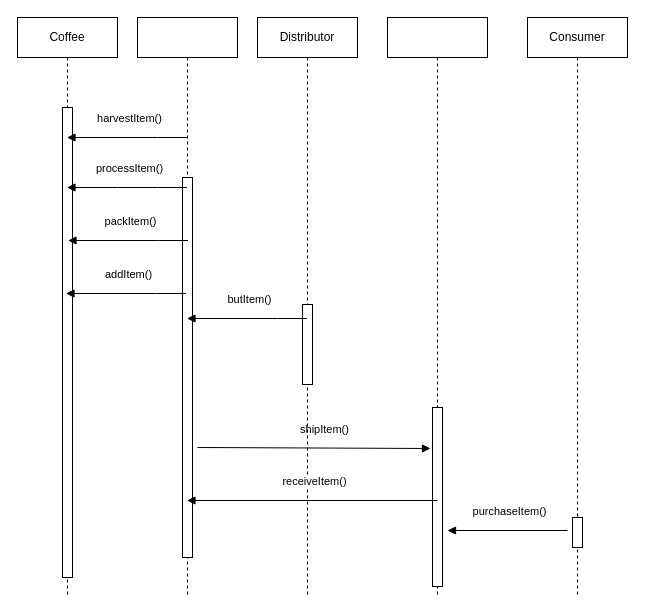
This 645x615 diagram has some shape labels left out. Here are the shapes that lost their labels. From the top down, the box of each, then its label:
(136, 16, 238, 598): Farmer
(386, 16, 488, 598): Retailer
